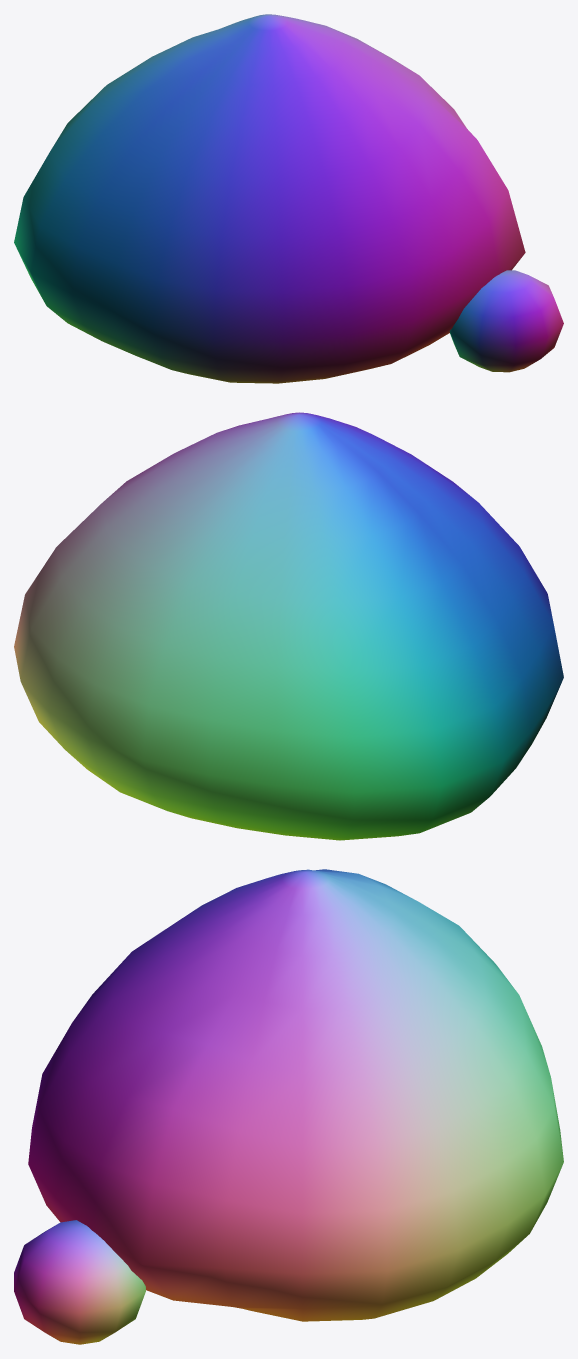
File: SM_Pickup_Quest_Gel.fbx
3 renders of one model, top to bottom at view 1: azimuth 30°, elevation 25°; view 2: azimuth 150°, elevation 25°; view 3: azimuth 270°, elevation 25°, orthographic. The views are drawn at different scales.
Visible parts, largest first — view 1: SM_Pickup_Quest_Gel; view 2: SM_Pickup_Quest_Gel; view 3: SM_Pickup_Quest_Gel.
Boxes of the visible parts, bbox=[...] form: SM_Pickup_Quest_Gel: bbox=[14, 14, 563, 383]; SM_Pickup_Quest_Gel: bbox=[14, 412, 563, 840]; SM_Pickup_Quest_Gel: bbox=[14, 869, 563, 1344].
Bounding box in the file's own units: 0.2516 × 0.179 × 0.2346.
